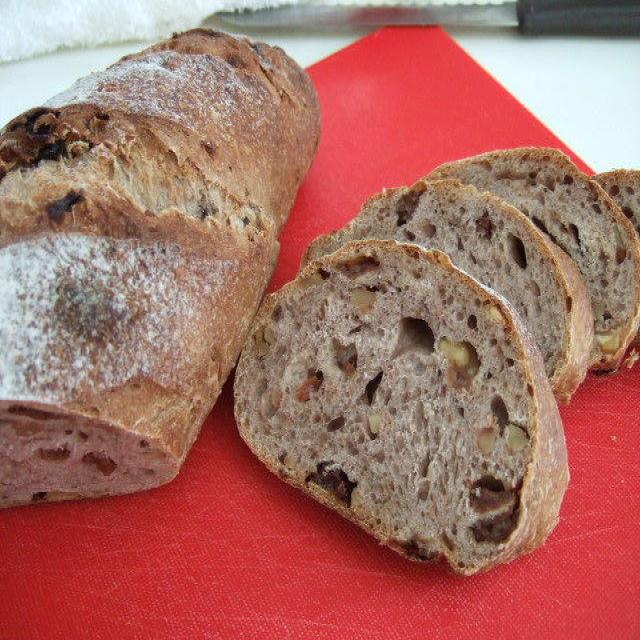面包点心: (0, 0, 640, 592)
